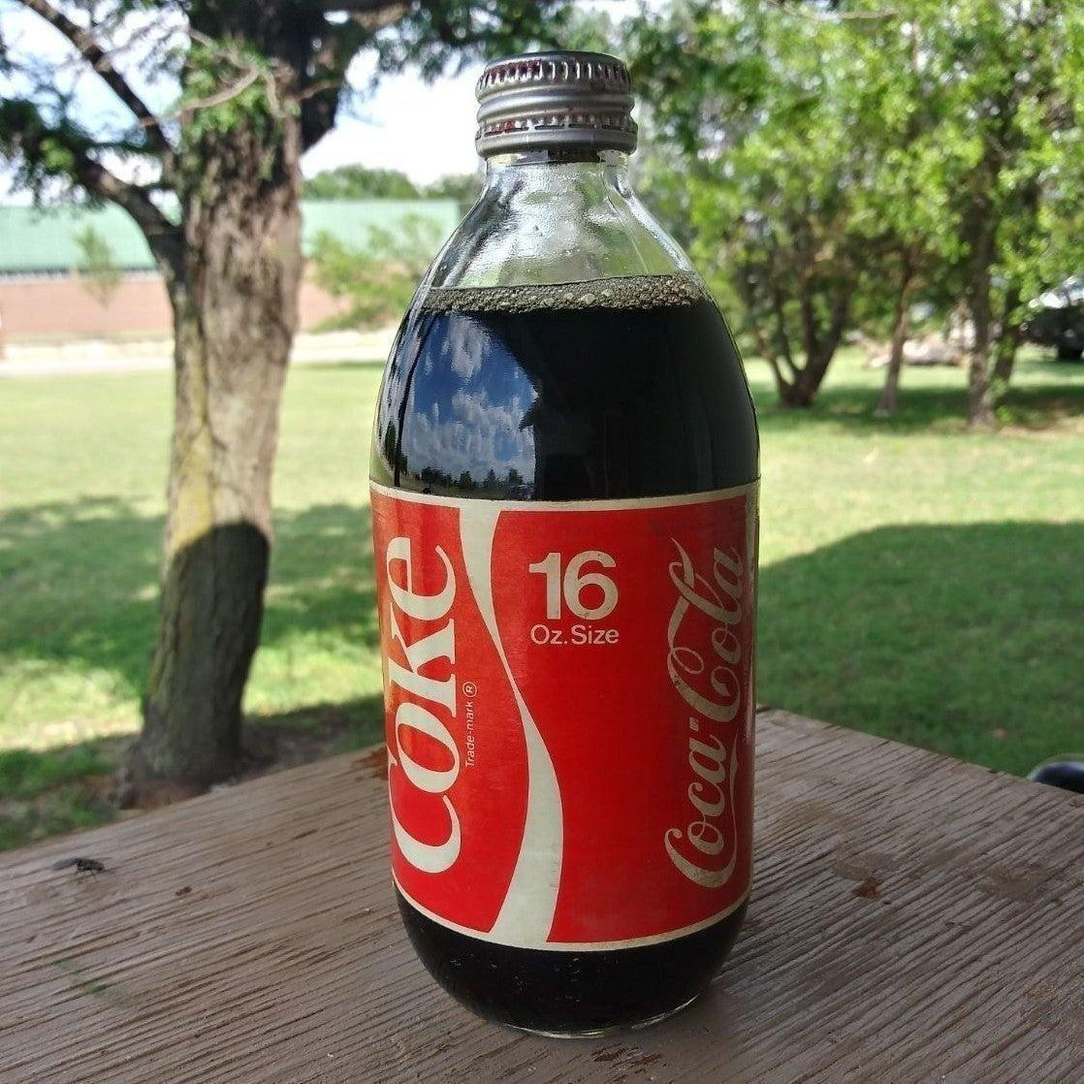bottle-glass: (363, 40, 767, 1047)
